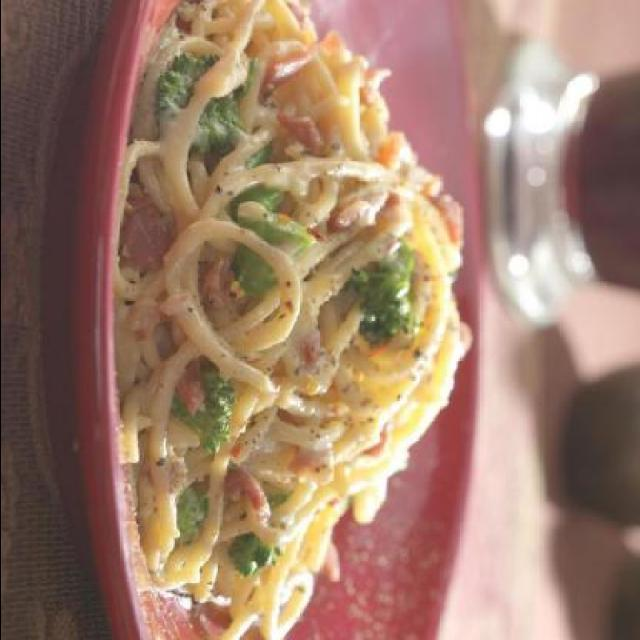Pasta with carbonara sauce: (52, 17, 534, 640)
